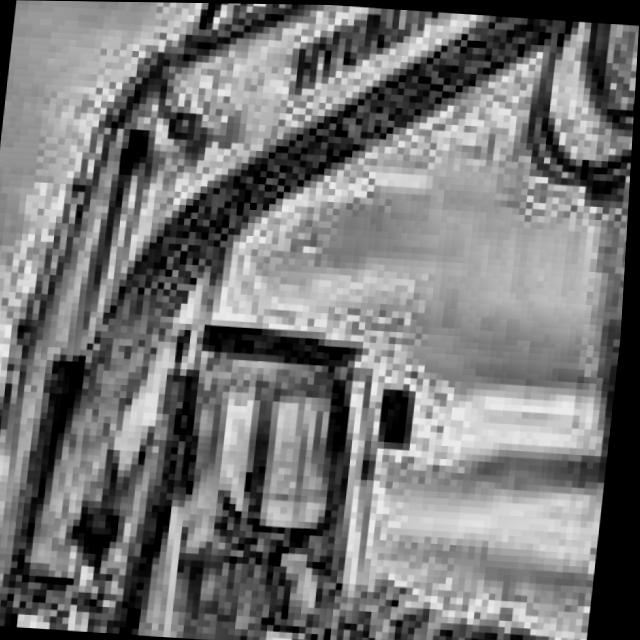excavator: (0, 231, 491, 640)
